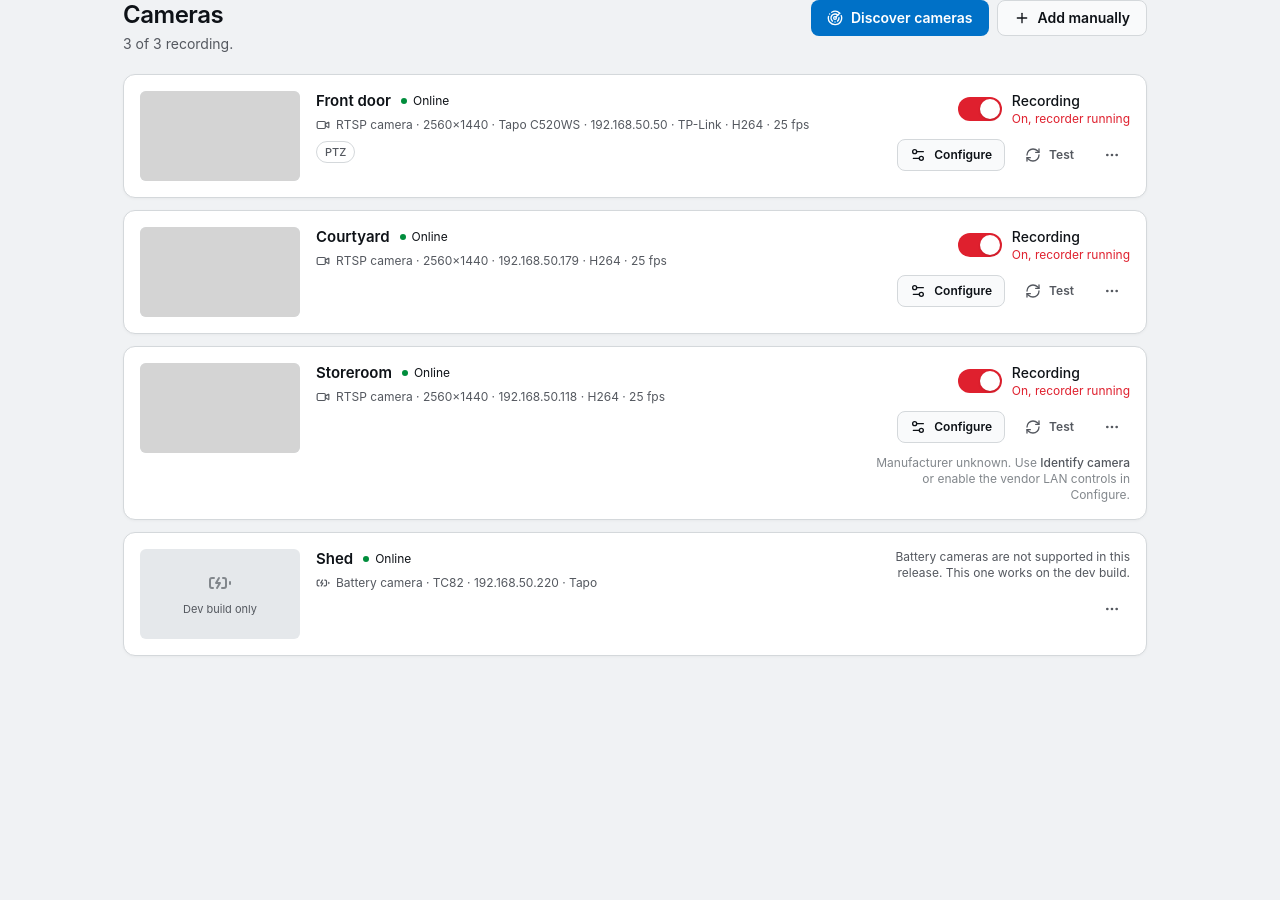
Scenario: turning a camera off from the list › updates that row, and only that row
expect the text "3 of 3 recording." is shown: met, box [123,34,233,54]
Click the switch named "Recording" in the row of "Front door".
click(980, 109)  # box [958,97,1002,121]
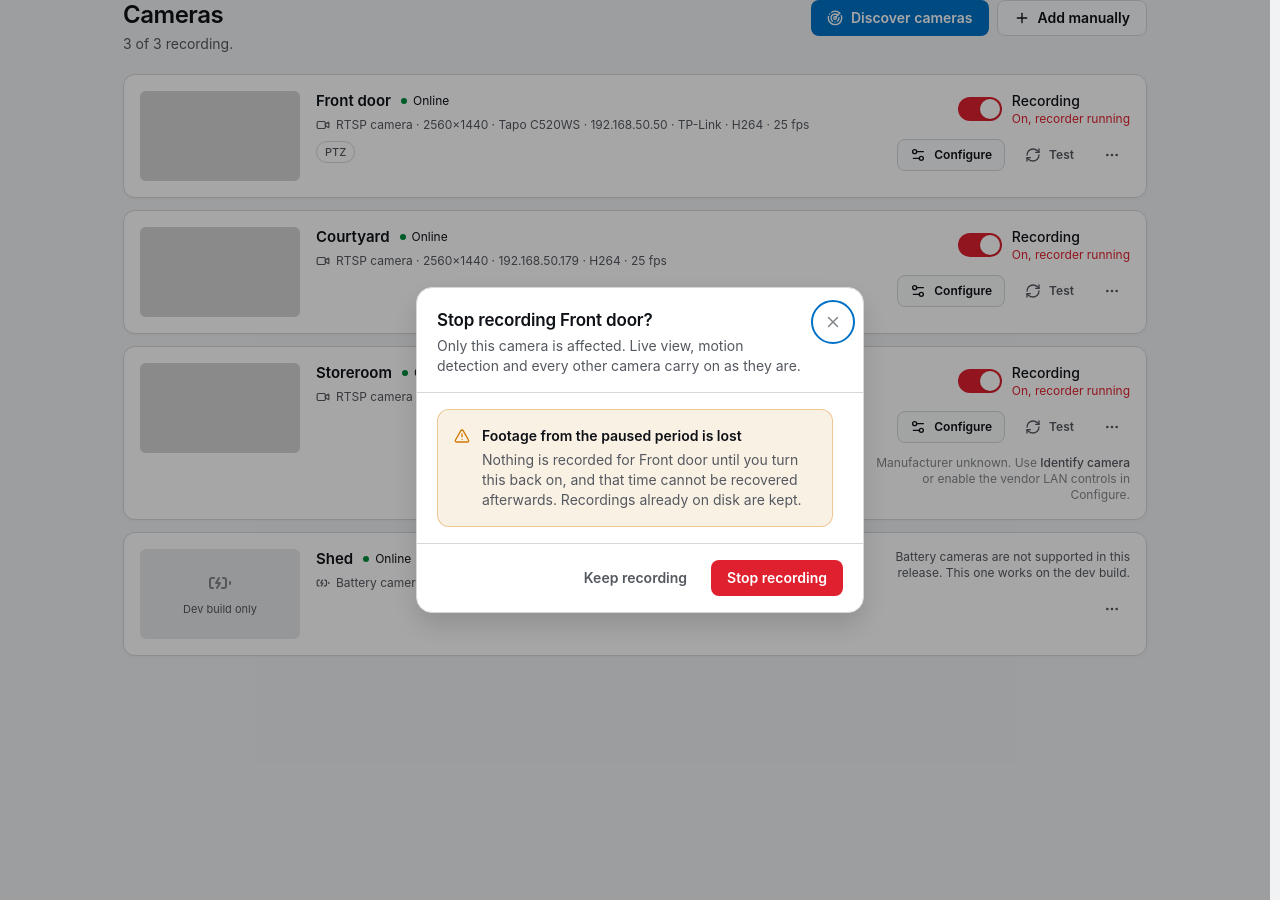
Click the button "Stop recording".
click(777, 578)  # box [711,560,843,596]
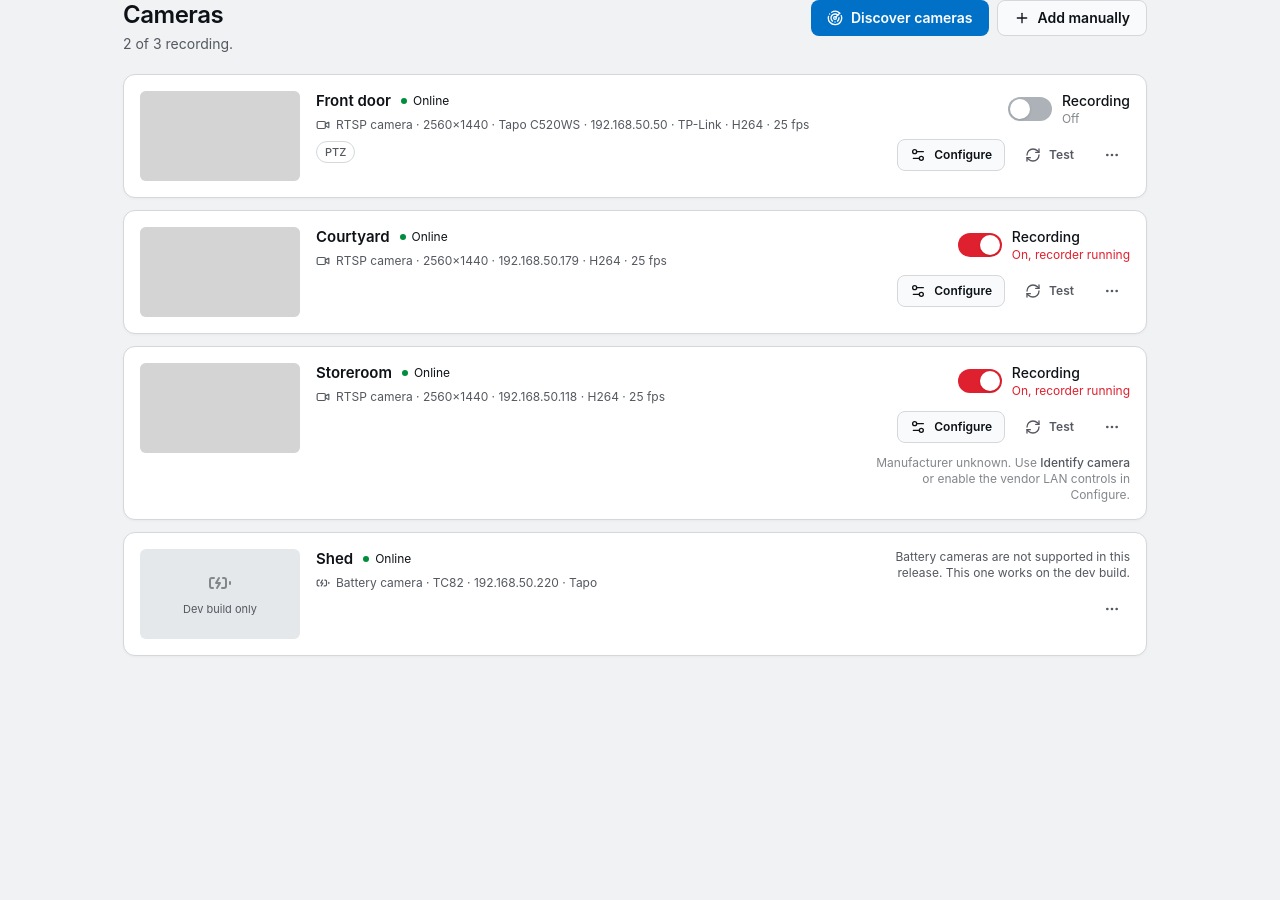
expect the switch named "Recording" next to "Off" is not checked: met, box [1008,97,1052,121]
expect the text "2 of 3 recording." is shown: met, box [123,34,233,54]
expect the text "Off" is shown: met, box [1062,111,1080,126]
